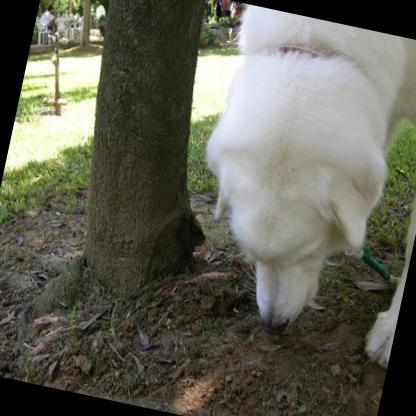Great_Pyrenees: (167, 1, 416, 366)
